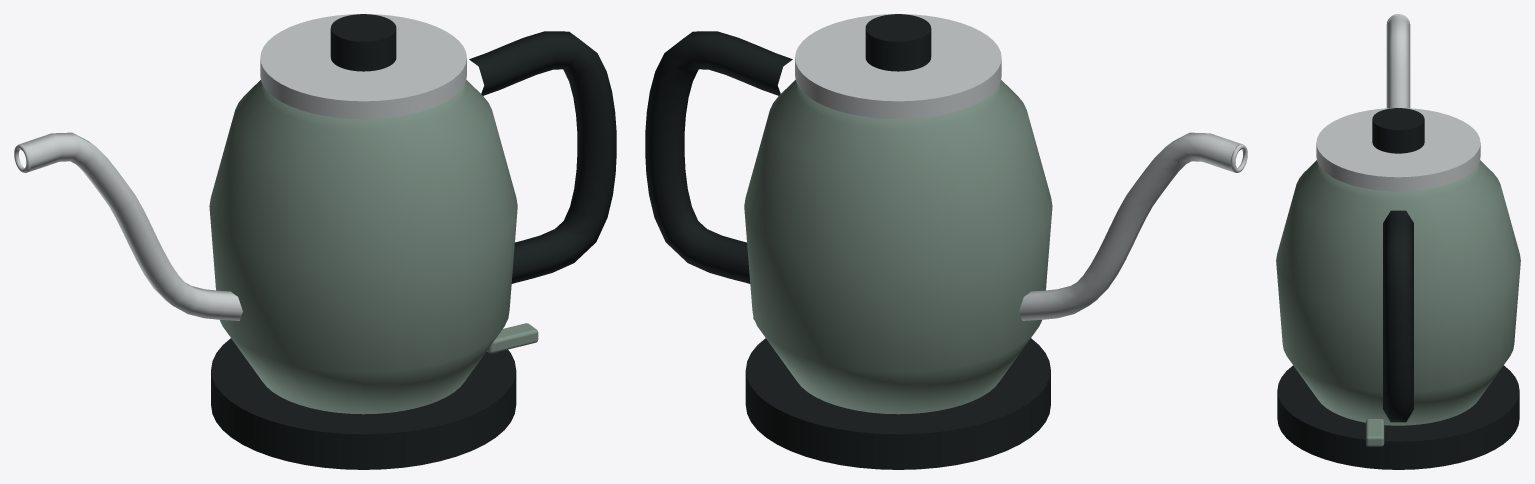
The model's file is kitchen-kettle.glb.
3 renders of one model, left to right at view 1: azimuth 30°, elevation 25°; view 2: azimuth 150°, elevation 25°; view 3: azimuth 270°, elevation 25°, orthographic. The views are drawn at different scales.
Parts seen in each view (by area): view 1: sage_surfaces, dark_surfaces, steel_surfaces; view 2: sage_surfaces, dark_surfaces, steel_surfaces; view 3: sage_surfaces, dark_surfaces, steel_surfaces.
Part boxes in pixels (x1,y1,x2,y2): sage_surfaces: (209,80,538,414); dark_surfaces: (20,14,616,469); steel_surfaces: (14,14,466,320); sage_surfaces: (744,80,1052,414); dark_surfaces: (645,14,1241,469); steel_surfaces: (795,14,1247,320); sage_surfaces: (1276,160,1520,446); dark_surfaces: (1277,108,1519,469); steel_surfaces: (1316,14,1480,191).
Size of the model in its own units: 0.4163 by 0.254 by 0.188.
